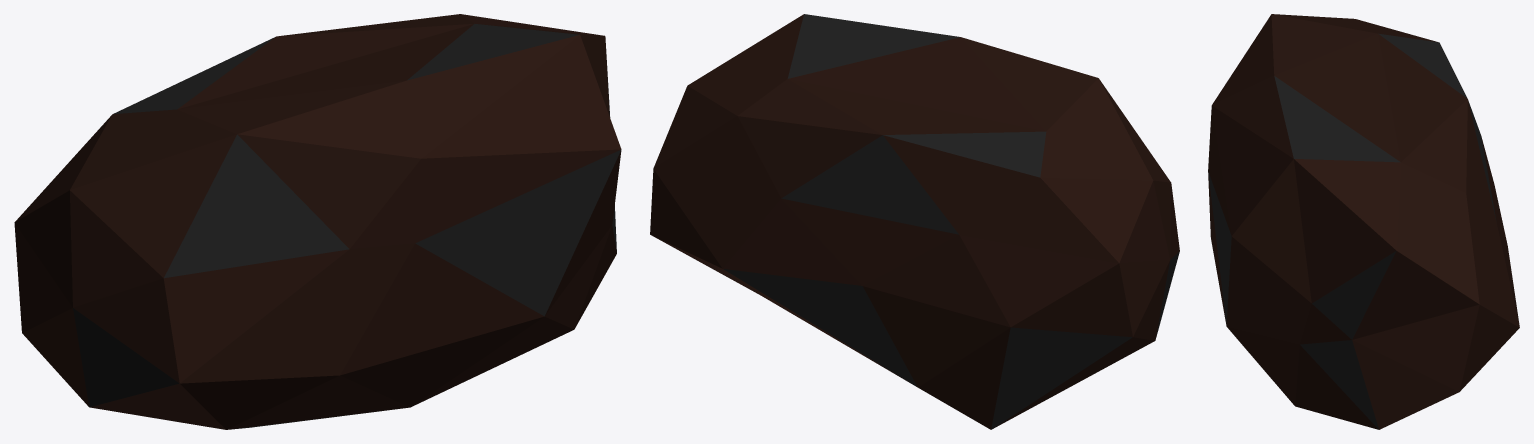
File: Asteroid 1.fbx
3 renders of one model, left to right at view 1: azimuth 30°, elevation 25°; view 2: azimuth 150°, elevation 25°; view 3: azimuth 270°, elevation 25°, orthographic. The views are drawn at different scales.
Parts seen in each view (by area): view 1: Icosphere; view 2: Icosphere; view 3: Icosphere.
Part boxes in pixels (x1,y1,x2,y2): Icosphere: (14, 14, 621, 429); Icosphere: (650, 14, 1179, 429); Icosphere: (1208, 14, 1519, 429).
Size of the model in its own units: 1068 by 647 by 586.
